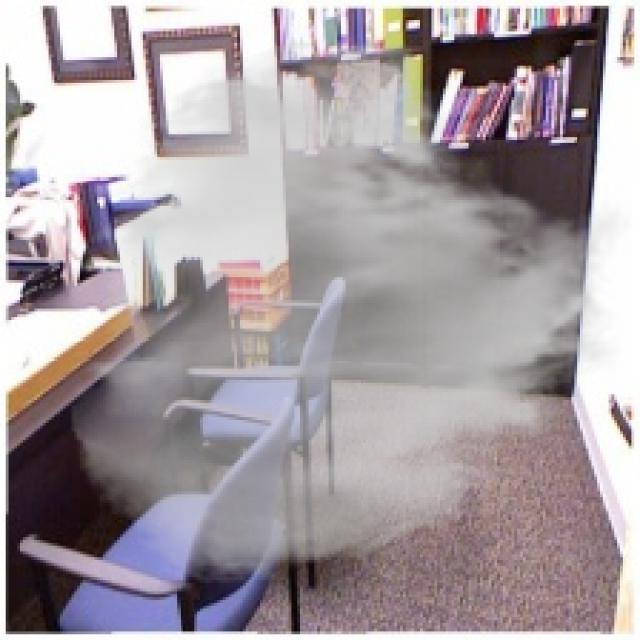smoke: (66, 34, 634, 589)
